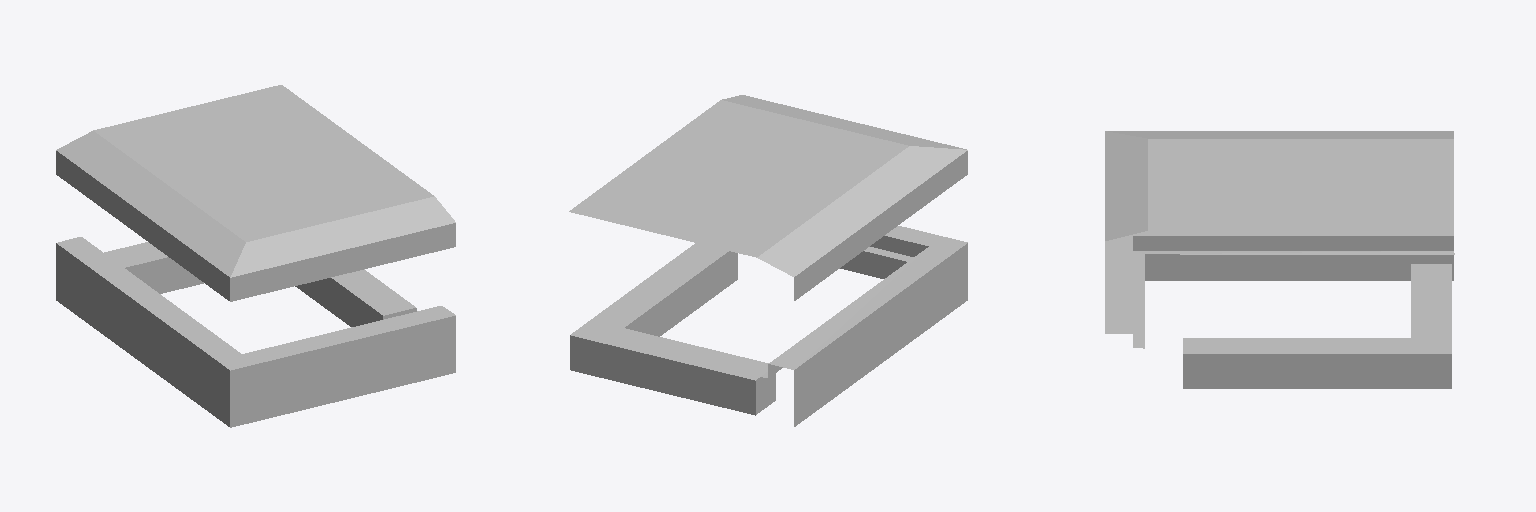
The model's file is shop.obj.
3 renders of one model, left to right at view 1: azimuth 30°, elevation 25°; view 2: azimuth 150°, elevation 25°; view 3: azimuth 270°, elevation 25°, orthographic.
Parts seen in each view (by area): view 1: Room.001, counter; view 2: Room.001, counter; view 3: Room.001, counter.
Part boxes in pixels (x1,y1,x2,y2): Room.001: (56, 85, 455, 427); counter: (104, 242, 416, 326); Room.001: (569, 95, 967, 426); counter: (570, 243, 775, 415); Room.001: (1105, 131, 1454, 348); counter: (1183, 264, 1451, 388).
Size of the model in its own units: 13.54 by 9.19 by 18.13.